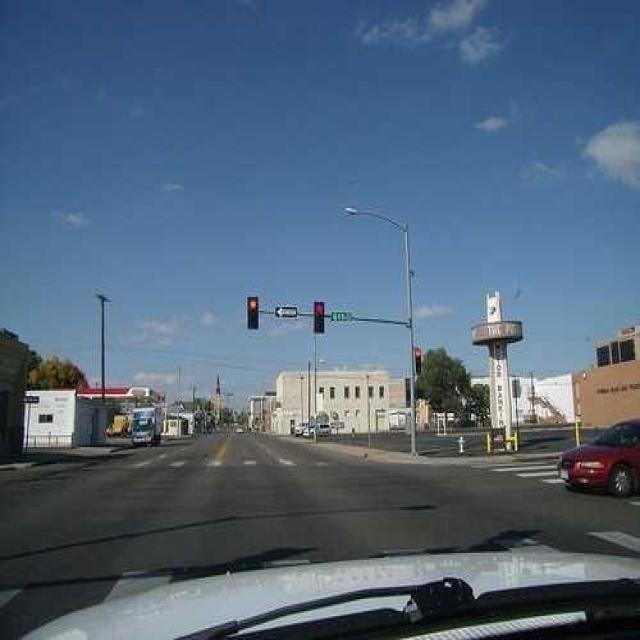Traffic Light -Red-: (247, 297, 259, 329), (314, 300, 324, 333), (414, 348, 421, 374)
